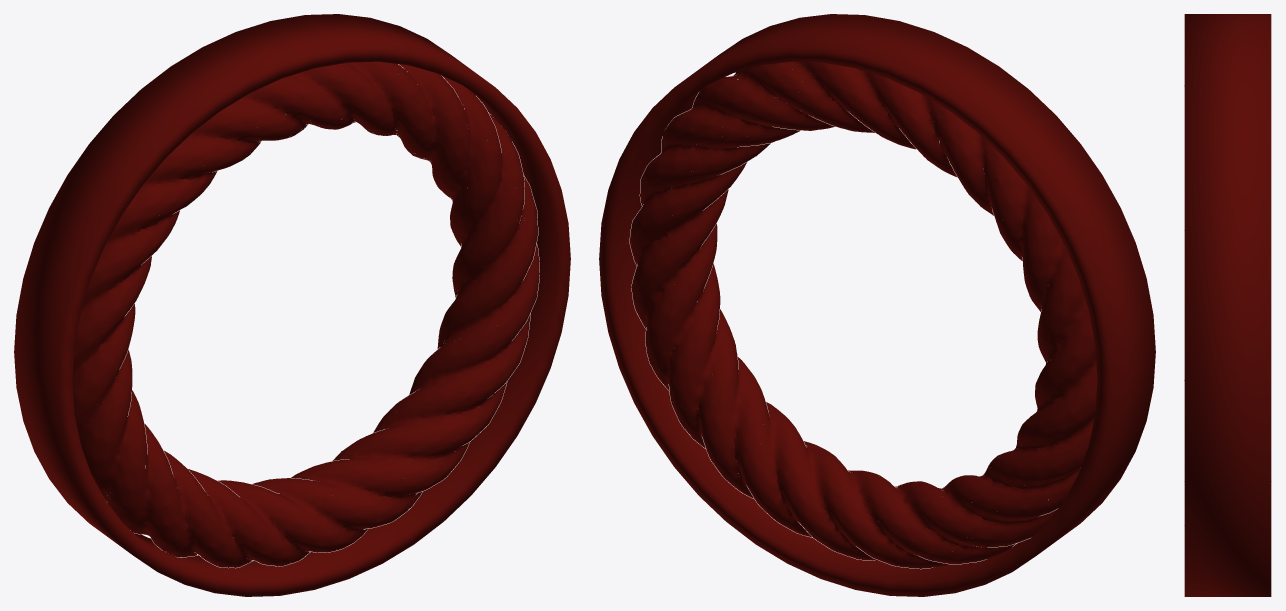
File: Rope2.glb
3 renders of one model, left to right at view 1: azimuth 30°, elevation 25°; view 2: azimuth 150°, elevation 25°; view 3: azimuth 270°, elevation 25°, orthographic.
Visible parts, largest first — view 1: Rope, Contorno; view 2: Rope, Contorno; view 3: Contorno.
Boxes of the visible parts, box(x1,y1,x2,y2) form: Rope: box(72, 61, 539, 568); Contorno: box(14, 14, 570, 596); Rope: box(629, 61, 1097, 569); Contorno: box(599, 14, 1155, 596); Contorno: box(1184, 14, 1271, 596).
Bounding box in the file's own units: 17.43 × 17.43 × 2.62.
